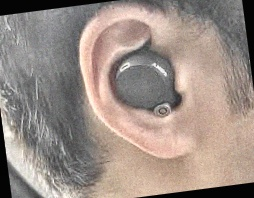earphone: (73, 0, 204, 170)
